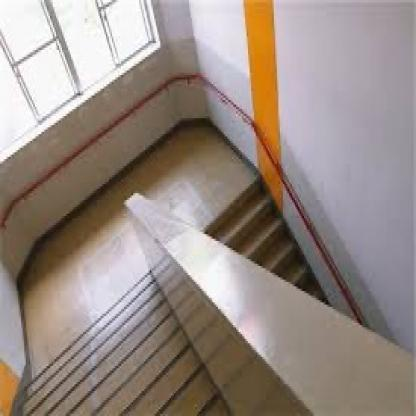stair: (24, 270, 227, 416)
